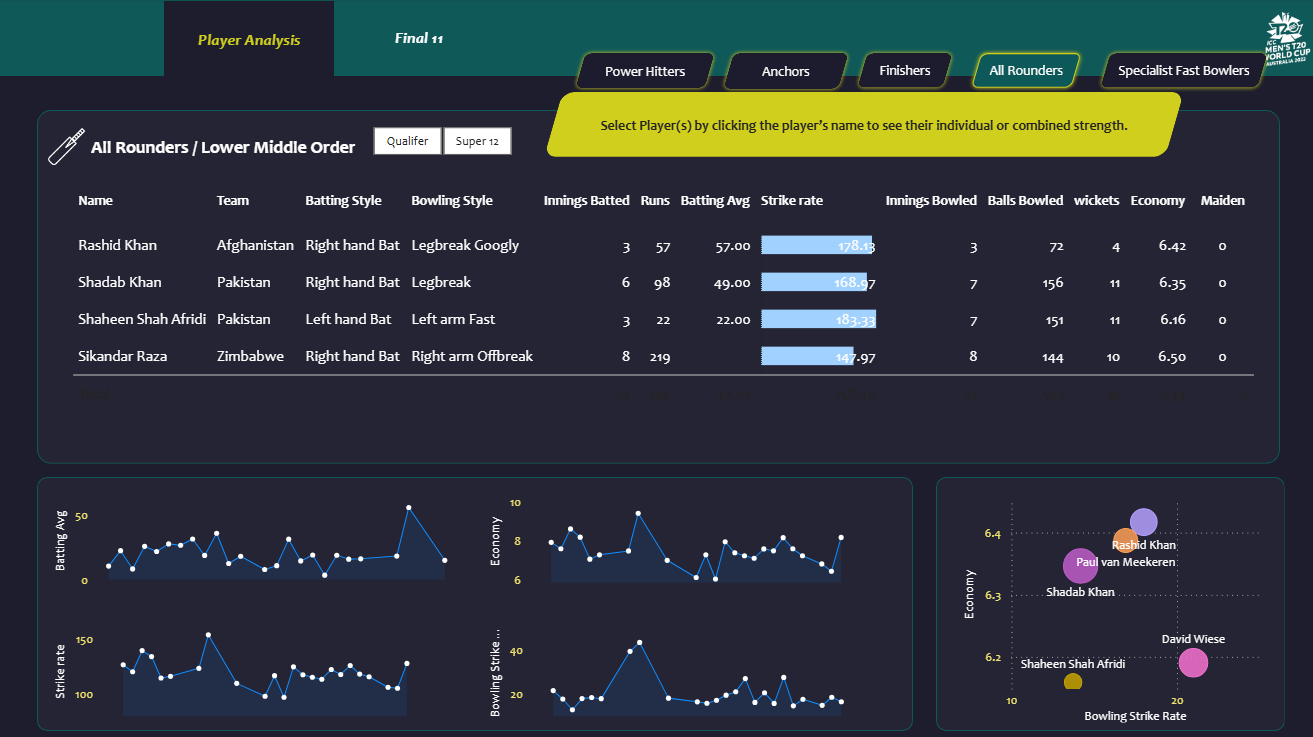

What the dashboard file says about the page in this screenshot:
{"tool":"powerbi","page":{"name":"All Rounders / Lower Middle Order","canvas":[1280,720],"ordinal":3},"visuals":[{"type":"shape","box":[0,75,1280,645],"z":0},{"type":"group","id":"g1","title":"Group 2","box":[90.8,127.2,260.2,31.2],"z":0,"group":"g2"},{"type":"shape","box":[90.8,127.2,260.2,31.2],"z":0,"group":"g1"},{"type":"image","box":[45,125,44,36],"z":1000,"group":"g2"},{"type":"shape","box":[38,465,852,247],"z":1000},{"type":"shape","box":[38,108,1209,344],"z":2000},{"type":"slicer","fields":{"Values":["dim_match_summary.stage"]},"box":[339.5,117.7,183.8,40.9],"z":3000},{"type":"group","id":"g2","title":"Group 1","box":[45,125,306,36],"z":4000},{"type":"shape","box":[531.1,90.5,622.5,63.2],"z":5000},{"type":"card","fields":{"Values":["key_measures.Batting Avg 2"]},"box":[755,103.8,107,59],"z":6000},{"type":"card","fields":{"Values":["key_measures.Boundary %"]},"box":[935,103.8,112,59],"z":7000},{"type":"card","fields":{"Values":["key_measures.Strike rate"]},"box":[834,103.8,121,59],"z":8000},{"type":"card","fields":{"Values":["key_measures.Avg. balls Faced"]},"box":[1034,103.8,99,59],"z":9000},{"type":"shape","box":[575,119,198,31],"z":10000},{"type":"actionButton","box":[557,48.8,144,42],"z":11000},{"type":"shape","box":[912.3,464.9,339.5,247.1],"z":12000},{"type":"areaChart","fields":{"Y":["key_measures.Batting Avg"],"Category":["dim_match_summary.matchDate.Variation.Date Hierarchy.Year","dim_match_summary.matchDate.Variation.Date Hierarchy.Quarter","dim_match_summary.matchDate.Variation.Date Hierarchy.Month","dim_match_summary.matchDate.Variation.Date Hierarchy.Day"]},"box":[51,475,399,103],"z":13000},{"type":"areaChart","fields":{"Category":["dim_match_summary.matchDate.Variation.Date Hierarchy.Day"],"Y":["key_measures.Economy"]},"box":[474,475,399,103],"z":14000},{"type":"areaChart","fields":{"Category":["dim_match_summary.matchDate.Variation.Date Hierarchy.Day"],"Y":["key_measures.Strike rate"]},"box":[51,597,399,106],"z":15000},{"type":"areaChart","fields":{"Category":["dim_match_summary.matchDate.Variation.Date Hierarchy.Day"],"Y":["key_measures.Bowling Strike Rate"]},"box":[474,597,399,106],"z":16000},{"type":"image","box":[1228,10,48,59],"z":17000},{"type":"actionButton","title":"Button Player Ana selected","box":[161,2,166,75],"z":18000},{"type":"actionButton","title":"Button Player Ana selected","box":[327,0,166,75],"z":19000},{"type":"shape","box":[567.1,107,550.5,31.1],"z":20000},{"type":"actionButton","box":[831.5,48.9,101.1,41.7],"z":21000},{"type":"actionButton","box":[942.5,48.9,115.3,41.7],"z":22000},{"type":"actionButton","box":[1067.6,48.9,171.1,41.7],"z":23000},{"type":"actionButton","box":[701.3,48.6,130.3,42.8],"z":24000},{"type":"tableEx","fields":{"Values":["dim_players.name","dim_players.team","dim_players.battingStyle","dim_players.bowlingStyle","key_measures.Total Innings Batted","key_measures.Total Runs","key_measures.Batting Avg 2","key_measures.Strike rate","key_measures.Total Innings Bowled","key_measures.balls Bowled","key_measures.wickets","key_measures.Economy"]},"box":[67.1,173.1,1161.3,260.7],"z":25000},{"type":"scatterChart","fields":{"Category":["dim_players.name"],"X":["key_measures.Bowling Strike Rate"],"Y":["key_measures.Economy"],"Series":["dim_players.name"],"Size":["key_measures.Total Runs"]},"box":[934.7,474.7,304.4,234.4],"z":26000}]}

Visuals, with their boxes in screenshot pixels (x1, y1, x2, y2), scaled from the page's 1280x720 canvas onto the 1313x737 screenshot:
shape: 0 77 1312 736
"Group 2" group: 93 130 360 162
shape: 93 130 360 162
image: 46 128 91 165
shape: 39 476 913 729
shape: 39 111 1279 463
slicer - dim_match_summary.stage: 348 120 537 162
"Group 1" group: 46 128 360 165
shape: 545 93 1183 157
card - key_measures.Batting Avg 2: 774 106 884 167
card - key_measures.Boundary %: 959 106 1074 167
card - key_measures.Strike rate: 856 106 980 167
card - key_measures.Avg. balls Faced: 1061 106 1162 167
shape: 590 122 793 154
actionButton: 571 50 719 93
shape: 936 476 1284 729
areaChart - key_measures.Batting Avg x dim_match_summary.matchDate.Variation.Date Hierarchy.Year: 52 486 462 592
areaChart - dim_match_summary.matchDate.Variation.Date Hierarchy.Day x key_measures.Economy: 486 486 896 592
areaChart - dim_match_summary.matchDate.Variation.Date Hierarchy.Day x key_measures.Strike rate: 52 611 462 720
areaChart - dim_match_summary.matchDate.Variation.Date Hierarchy.Day x key_measures.Bowling Strike Rate: 486 611 896 720
image: 1260 10 1309 71
"Button Player Ana selected" actionButton: 165 2 335 79
"Button Player Ana selected" actionButton: 335 0 506 77
shape: 582 110 1146 141
actionButton: 853 50 957 93
actionButton: 967 50 1085 93
actionButton: 1095 50 1271 93
actionButton: 719 50 853 94
tableEx - dim_players.name x dim_players.team: 69 177 1260 444
scatterChart - dim_players.name x key_measures.Bowling Strike Rate: 959 486 1271 726
